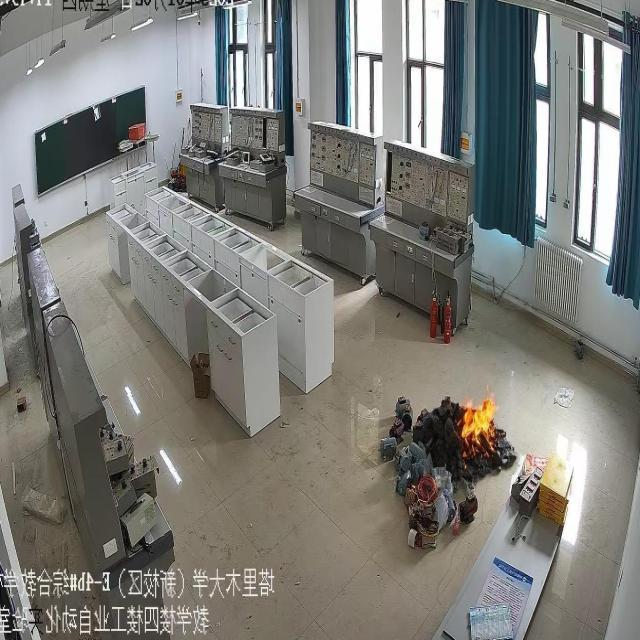smoke: (458, 388, 498, 454)
